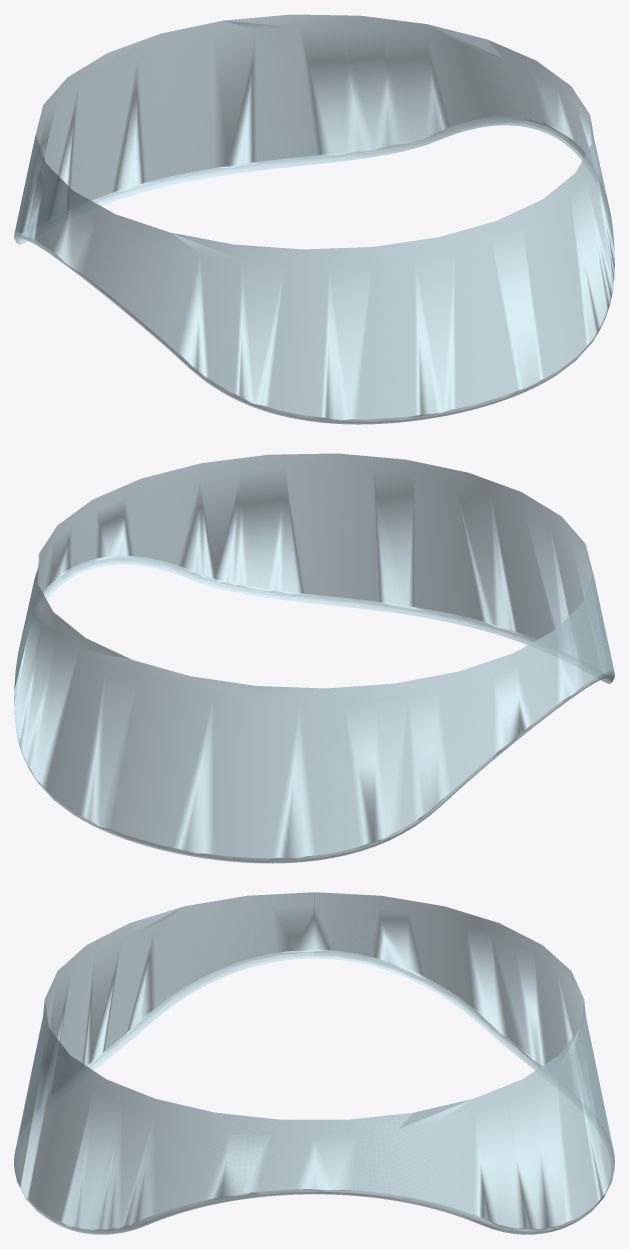
The model's file is body_2.obj.
3 views of the same model, one above another, from view 1: azimuth 30°, elevation 25°; view 2: azimuth 150°, elevation 25°; view 3: azimuth 270°, elevation 25° (orthographic). The views are drawn at different scales.
Visible parts, largest first — view 1: mesh1/mesh1-geometry#mesh1-geometry; view 2: mesh1/mesh1-geometry#mesh1-geometry; view 3: mesh1/mesh1-geometry#mesh1-geometry.
Boxes of the visible parts, x1,y1,x2,y2 form: mesh1/mesh1-geometry#mesh1-geometry: (14,14,614,424); mesh1/mesh1-geometry#mesh1-geometry: (14,453,614,863); mesh1/mesh1-geometry#mesh1-geometry: (14,892,614,1234).
Bounding box in the file's own units: 0.4547 × 0.1441 × 0.4828.
Materials: 1 (1 with a texture image).
